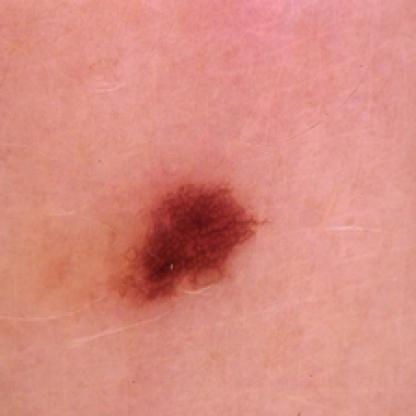benign: (106, 178, 275, 297)
